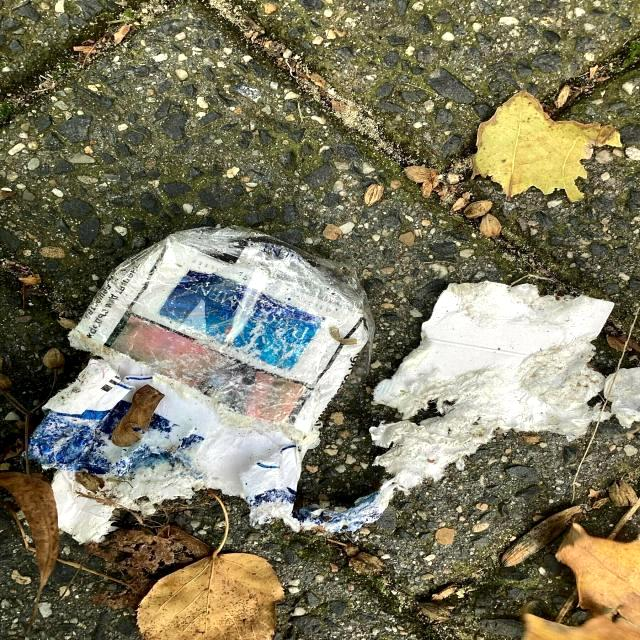Paper: (23, 216, 639, 552)
